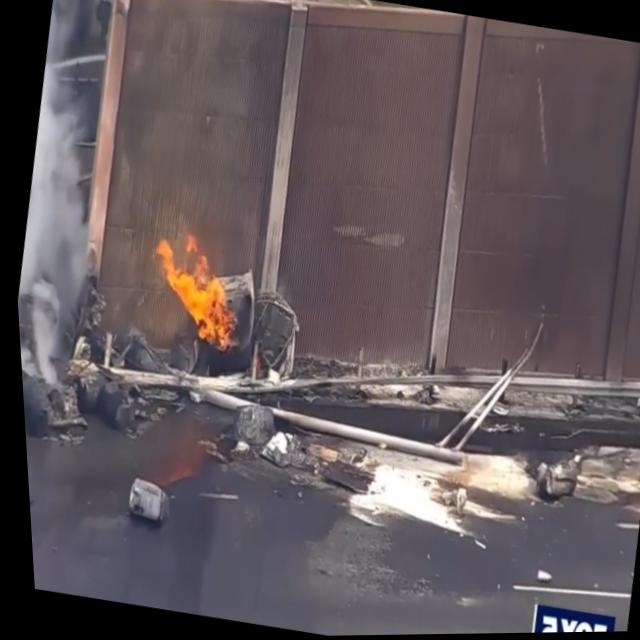Fire: (133, 229, 246, 359)
